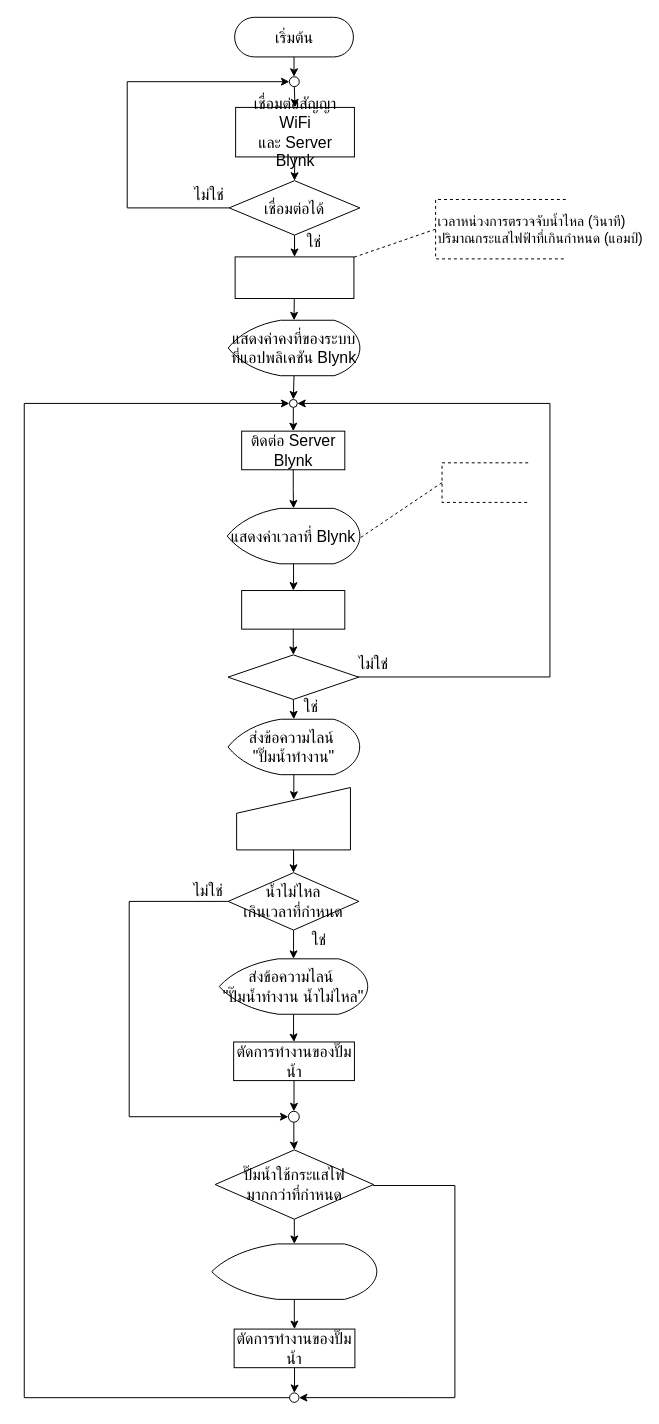
Some shapes in this 659 by 1424 pixel diagram are drawn without their labels. The shapes that lost their labels are listed below. From the top down, each one's box as (x1, y1, x2, y2) in pixels, then its label:
(234, 256, 354, 298): อ่านค่าคงที่ของระบบจาก EEPROM
(441, 462, 528, 502): วินาทีละ 1 ครั้ง
(241, 590, 345, 629): ตรวจสอบการทำงานของปั๊มน้ำ
(227, 654, 359, 699): ปั๊มน้ำทำงาน
(236, 787, 350, 850): อ่านค่า FlowSwitch ตรวจสอบการไหลของน้ำ
(211, 1243, 377, 1299): ส่งข้อความไลน์ "ปั๊มน้ำใช้พลังงานไฟฟ้ามากกว่าที่กำหนด "
